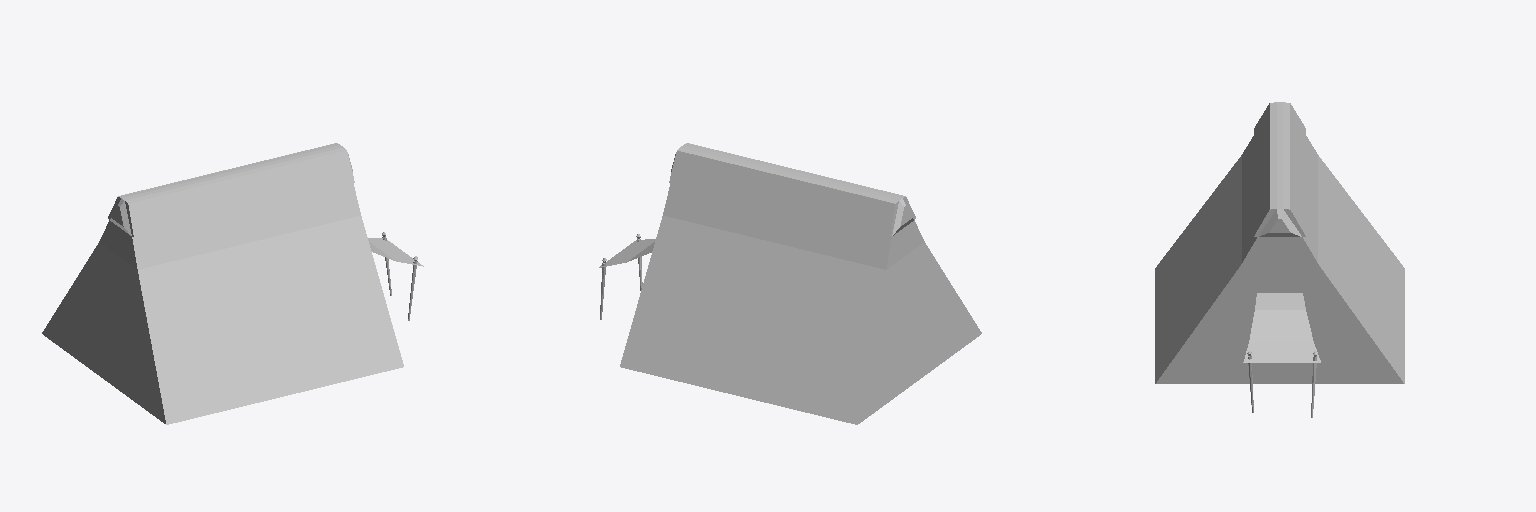
Rendered from master tent.obj.
The picture shows the model from 3 angles: view 1: azimuth 30°, elevation 25°; view 2: azimuth 150°, elevation 25°; view 3: azimuth 270°, elevation 25°; orthographic projection.
Visible parts, largest first — view 1: tent_001; view 2: tent_001; view 3: tent_001, tent_002.
Boxes of the visible parts, x1=… form: tent_001: x1=42, y1=143, x2=423, y2=424; tent_001: x1=599, y1=143, x2=981, y2=424; tent_001: x1=1155, y1=102, x2=1404, y2=383; tent_002: x1=1234, y1=295, x2=1325, y2=383.
Size of the model in its own units: 10.09 by 5.64 by 7.18.